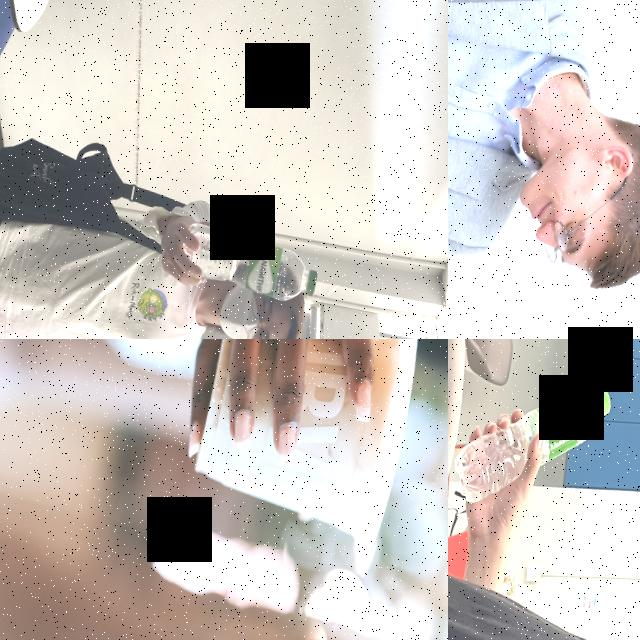bottle: (448, 360, 615, 529), (175, 221, 322, 308)
cup: (185, 339, 428, 557)
